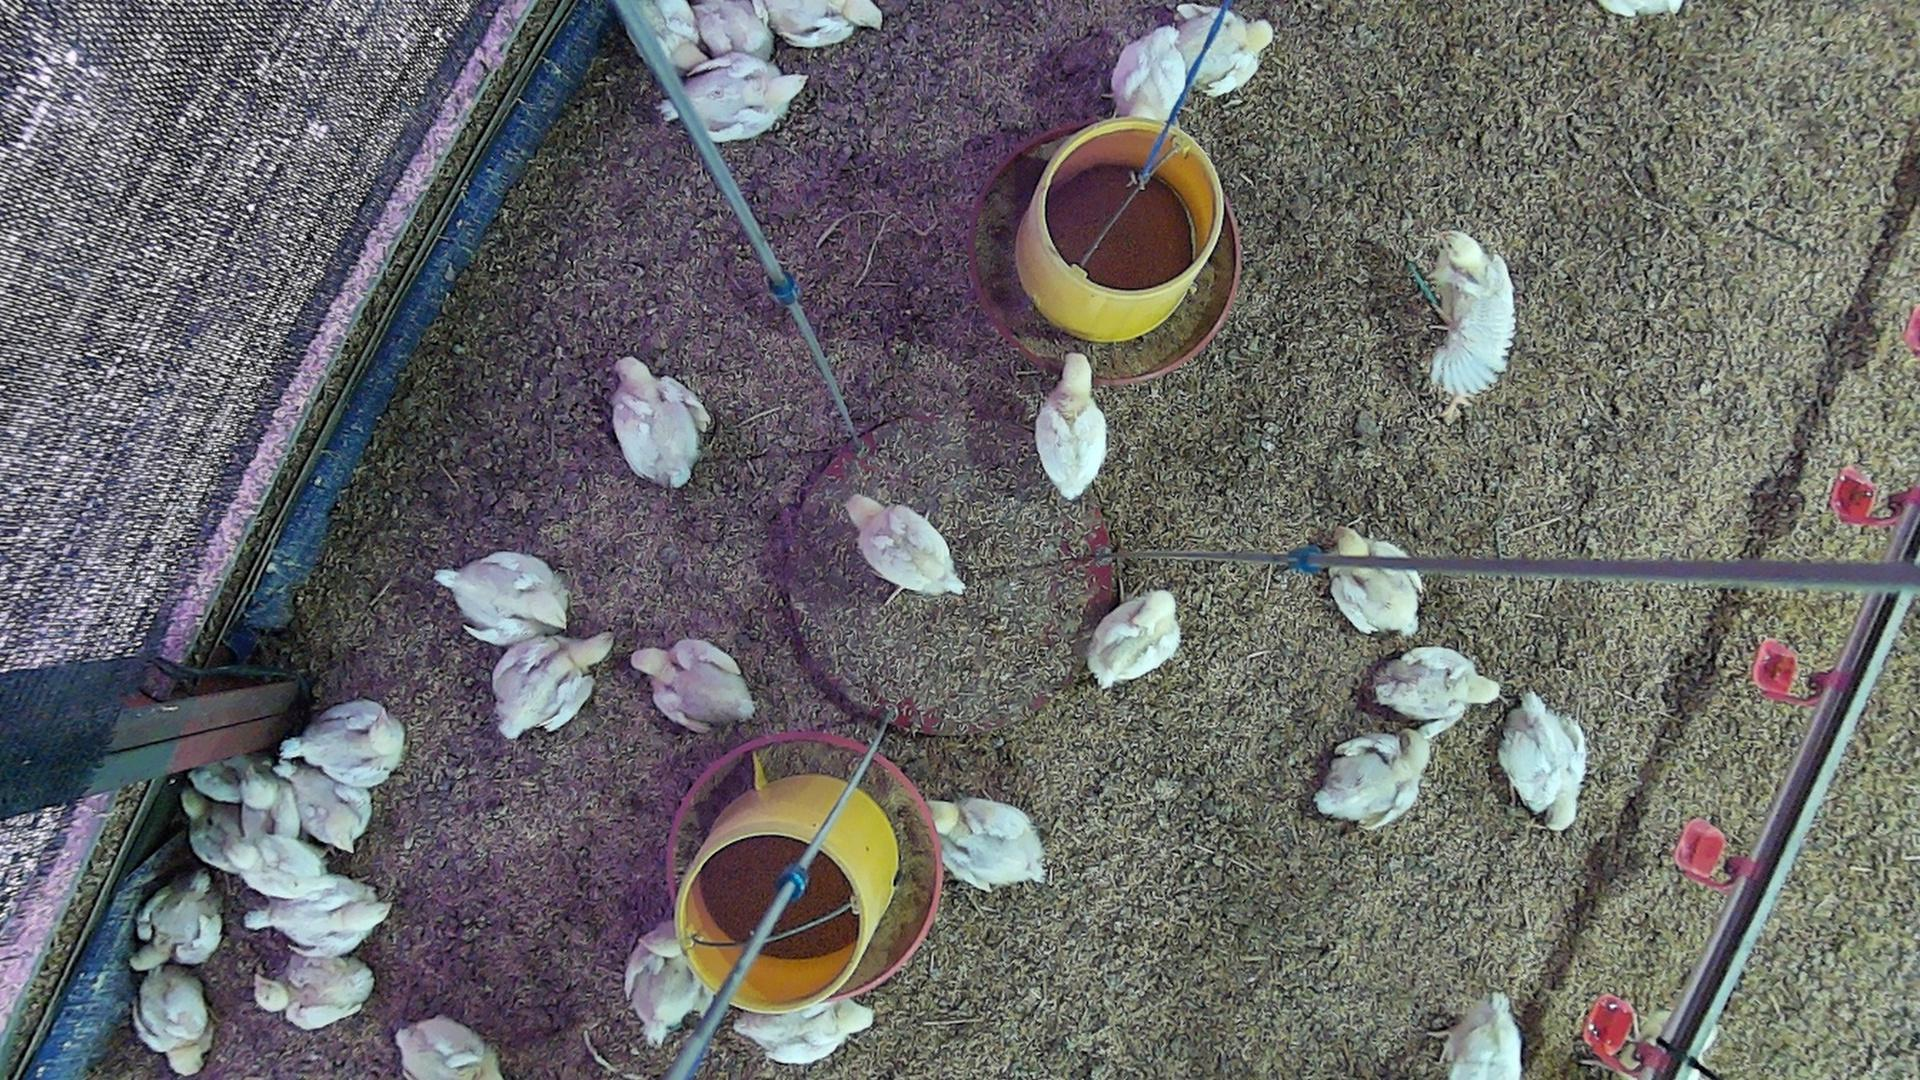ayam_broiler: (1419, 229, 1514, 400), (1315, 724, 1444, 828), (493, 632, 612, 740), (612, 357, 708, 488), (434, 551, 567, 645), (845, 495, 965, 596), (1499, 690, 1586, 829), (245, 876, 392, 957), (624, 920, 713, 1048), (630, 638, 754, 729), (675, 58, 807, 140), (278, 699, 404, 785), (931, 796, 1046, 889), (1329, 525, 1425, 634), (1036, 353, 1106, 500), (1377, 645, 1501, 723), (732, 996, 874, 1063), (1174, 3, 1274, 98), (131, 873, 223, 971), (1089, 588, 1180, 687), (276, 764, 372, 853), (260, 955, 372, 1030), (135, 968, 208, 1076), (1109, 25, 1189, 123), (1441, 996, 1523, 1080), (222, 835, 326, 901), (396, 1015, 500, 1079), (764, 0, 880, 49), (622, 0, 708, 66), (181, 786, 243, 874), (241, 765, 301, 839), (696, 0, 771, 57)
